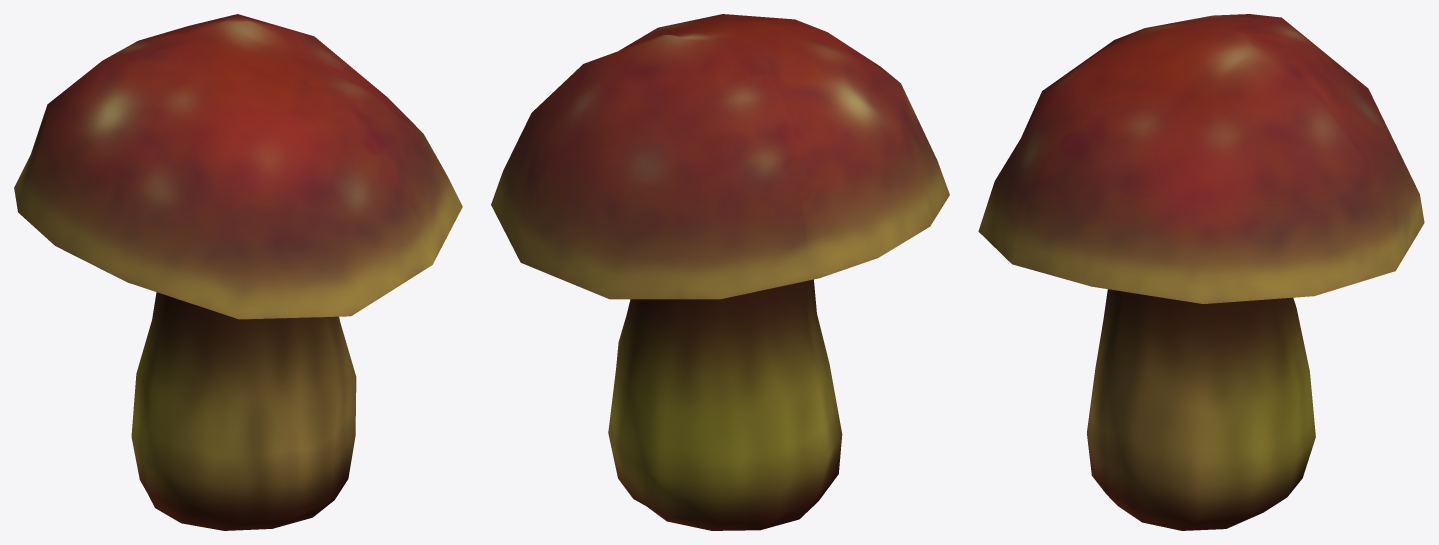
File: PennyBunDefault.fbx
3 renders of one model, left to right at view 1: azimuth 30°, elevation 25°; view 2: azimuth 150°, elevation 25°; view 3: azimuth 270°, elevation 25°, orthographic. The views are drawn at different scales.
Visible parts, largest first — view 1: PennyBunLP; view 2: PennyBunLP; view 3: PennyBunLP.
Boxes of the visible parts, box(x1,y1,x2,y2) form: PennyBunLP: box(14, 14, 462, 530); PennyBunLP: box(491, 14, 949, 530); PennyBunLP: box(978, 14, 1424, 530).
Bounding box in the file's own units: 72.05 × 80.74 × 72.48.
